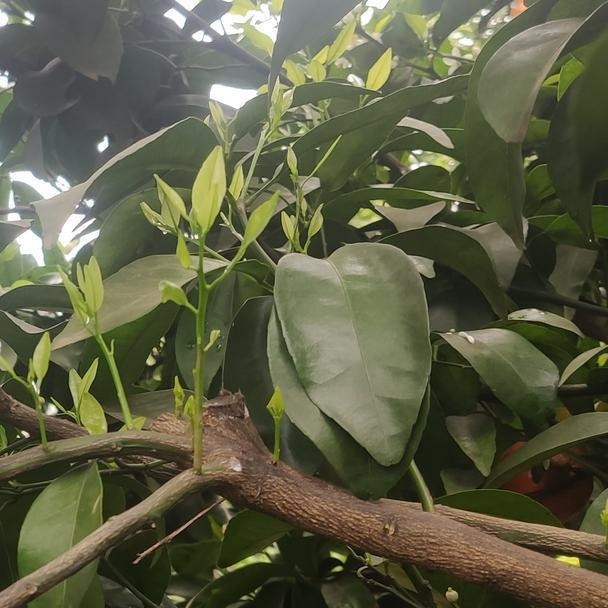shoot: (150, 155, 275, 312), (61, 264, 118, 344)
